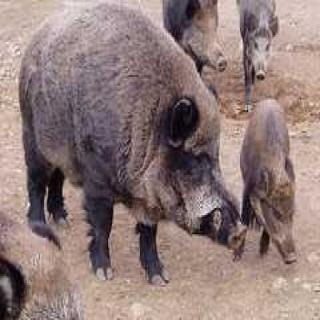Pig: (16, 6, 236, 265), (243, 94, 320, 281), (238, 0, 288, 88), (170, 0, 234, 66)
